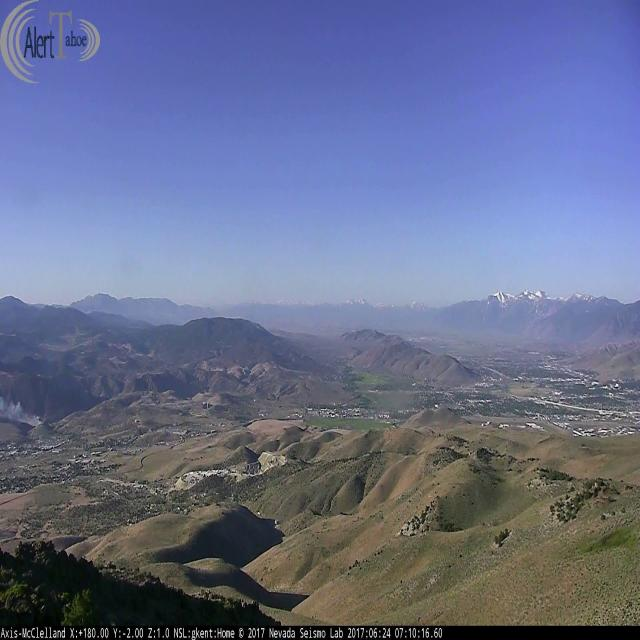smoke: (0, 398, 45, 430)
